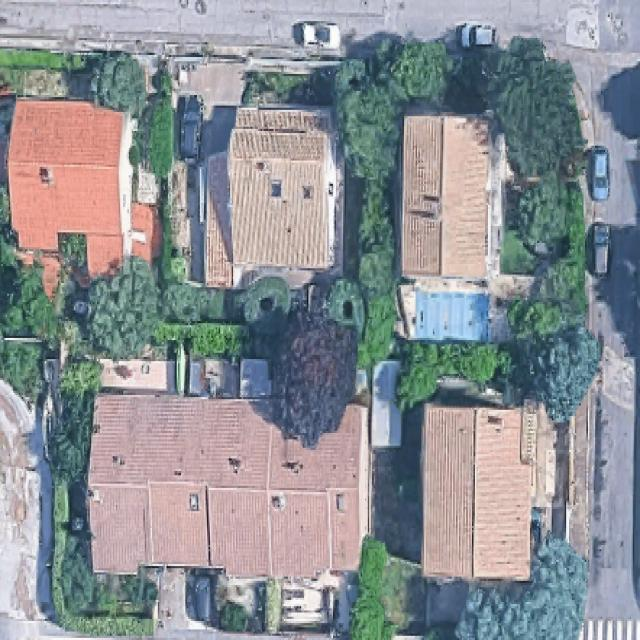maison: (88, 395, 360, 576), (1, 89, 159, 284), (207, 108, 343, 283), (420, 406, 531, 579), (399, 113, 492, 277)
